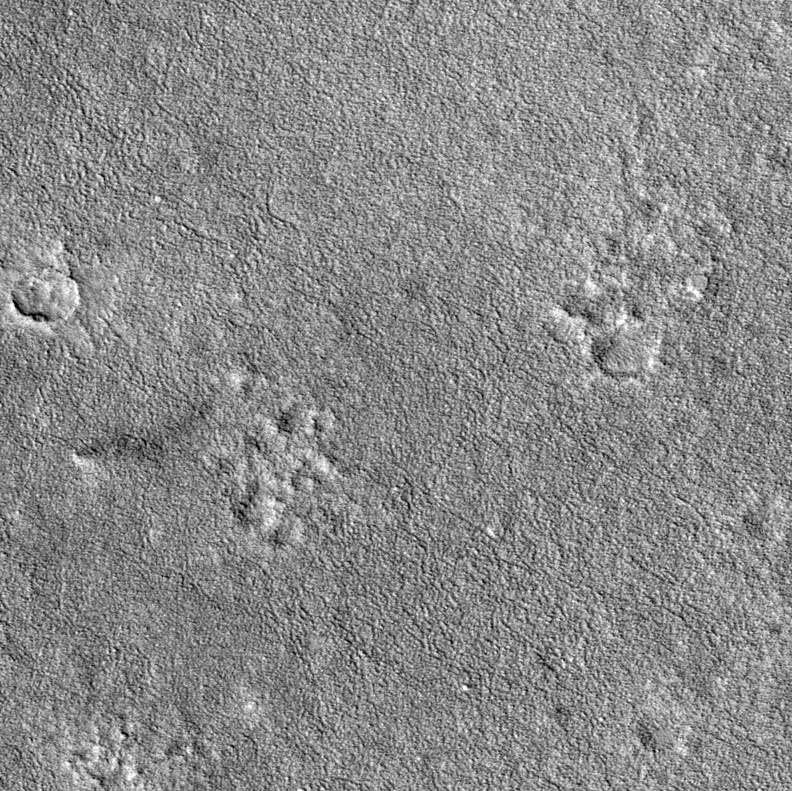dust_devil: (70, 400, 218, 467)
